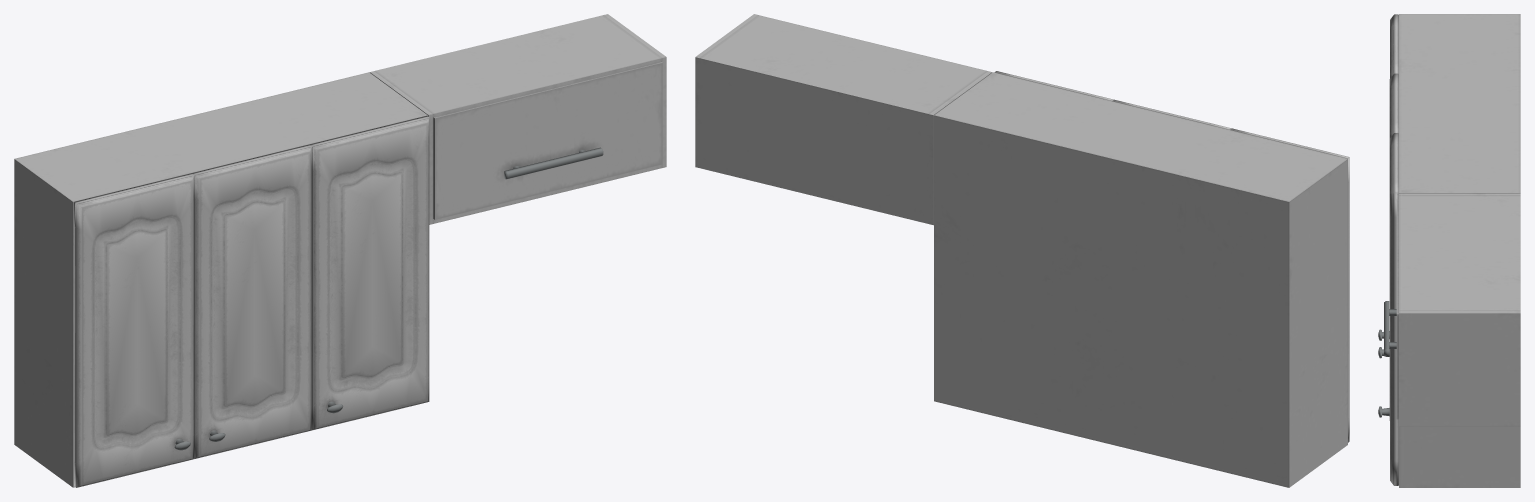
The model's file is cabinet.glb.
3 renders of one model, left to right at view 1: azimuth 30°, elevation 25°; view 2: azimuth 150°, elevation 25°; view 3: azimuth 270°, elevation 25°, orthographic. The views are drawn at different scales.
Visible parts, largest first — view 1: armario_low, porta_armario_low, porta_armario_direita_low.001, porta_armario_direita_low, porta_armario_lateral_low, armario_lateral_low, puxador_low; view 2: armario_low, armario_lateral_low, porta_armario_low; view 3: armario_low, armario_lateral_low, porta_armario_direita_low.001, porta_armario_lateral_low, porta_armario_direita_low, porta_armario_low, puxador_low.
Boxes of the visible parts, bbox=[...] form: armario_low: bbox=[14, 72, 427, 487]; porta_armario_low: bbox=[74, 173, 193, 487]; porta_armario_direita_low.001: bbox=[309, 116, 429, 430]; porta_armario_direita_low: bbox=[192, 144, 311, 458]; porta_armario_lateral_low: bbox=[433, 61, 662, 219]; armario_lateral_low: bbox=[369, 14, 666, 224]; puxador_low: bbox=[504, 147, 603, 179]; armario_low: bbox=[934, 72, 1347, 487]; armario_lateral_low: bbox=[695, 14, 992, 225]; porta_armario_low: bbox=[1230, 128, 1349, 442]; armario_low: bbox=[1399, 14, 1520, 487]; armario_lateral_low: bbox=[1399, 193, 1520, 426]; porta_armario_direita_low.001: bbox=[1389, 133, 1398, 485]; porta_armario_lateral_low: bbox=[1396, 199, 1398, 419]; porta_armario_direita_low: bbox=[1389, 73, 1398, 197]; porta_armario_low: bbox=[1389, 14, 1398, 137]; puxador_low: bbox=[1384, 301, 1396, 356].
Size of the model in its own units: 1.75 by 0.8034 by 0.3511.
Materials: 1 (1 with a texture image).
